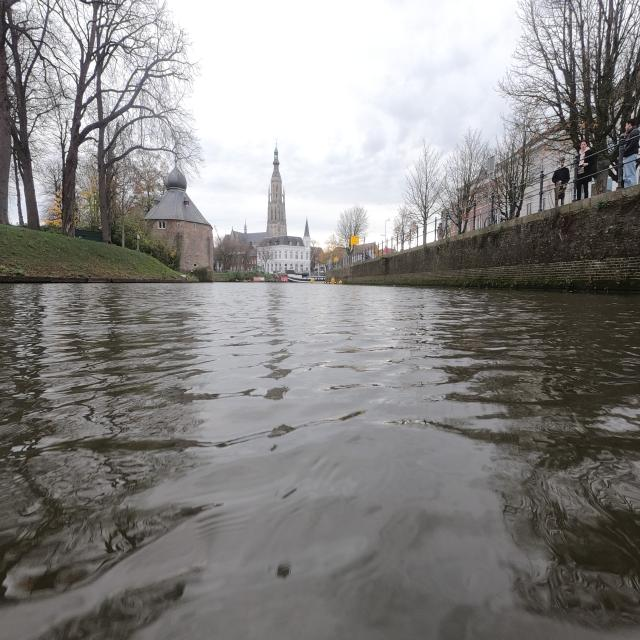dock: (0, 275, 199, 284)
grass: (0, 225, 180, 278)
sky: (168, 0, 520, 245)
tree: (10, 0, 202, 241)
wall: (327, 185, 640, 290)
water: (0, 283, 640, 639)
